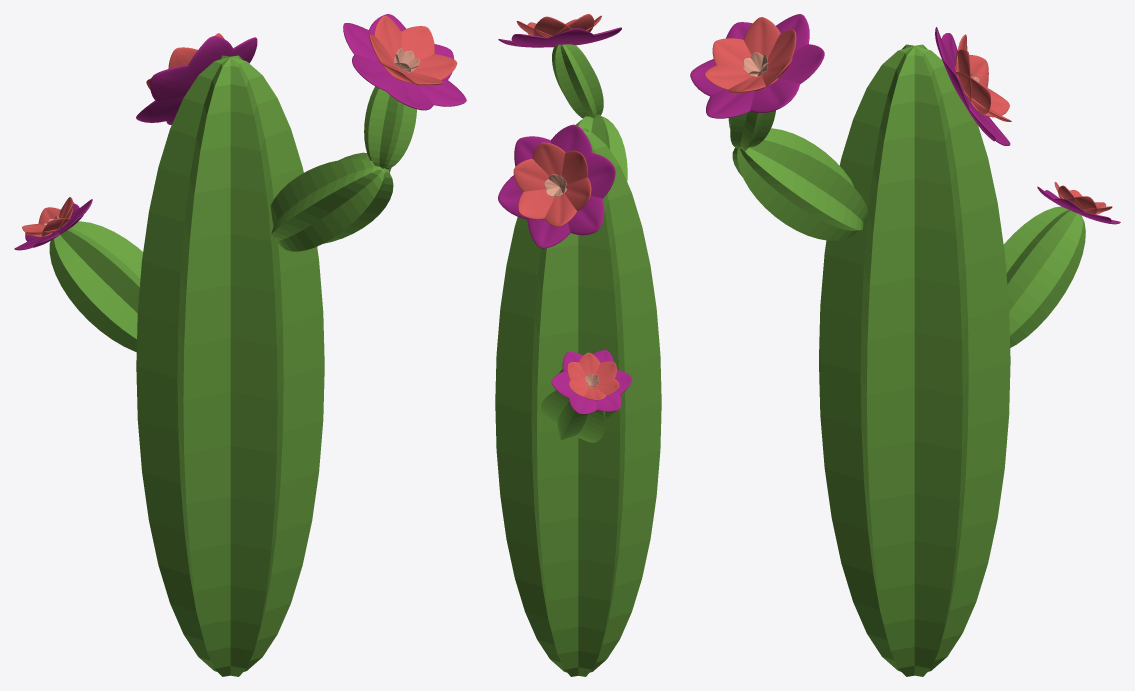
Rendered from cactus2.glb.
3 views of the same model, side by side, from view 1: azimuth 30°, elevation 25°; view 2: azimuth 150°, elevation 25°; view 3: azimuth 270°, elevation 25° (orthographic). The views are drawn at different scales.
Visible parts, largest first — view 1: Sphere, Sphere.001, Sphere.003, flower, flower.001, Sphere.002, flower.002; view 2: Sphere, flower.001, flower.002, Sphere.002, flower, Sphere.003, Sphere.001; view 3: Sphere, Sphere.001, flower, Sphere.003, flower.001, Sphere.002, flower.002.
Part boxes in pixels (box(x1,y1,x2,y2)): Sphere: box(136, 55, 324, 676); Sphere.001: box(270, 152, 393, 251); Sphere.003: box(49, 221, 142, 351); flower: box(343, 14, 466, 110); flower.001: box(136, 33, 257, 124); Sphere.002: box(364, 86, 416, 169); flower.002: box(14, 197, 92, 250); Sphere: box(495, 128, 661, 676); flower.001: box(498, 124, 615, 248); flower.002: box(551, 350, 632, 414); Sphere.002: box(552, 44, 603, 118); flower: box(498, 14, 621, 47); Sphere.003: box(541, 369, 616, 442); Sphere.001: box(576, 114, 627, 181); Sphere: box(819, 44, 1010, 676); Sphere.001: box(732, 128, 867, 240); flower: box(690, 14, 824, 118); Sphere.003: box(1003, 206, 1085, 347); flower.001: box(935, 27, 1011, 145); Sphere.002: box(728, 110, 775, 151); flower.002: box(1037, 182, 1120, 224).
Size of the model in its own units: 0.4243 by 0.9607 by 0.5417.
